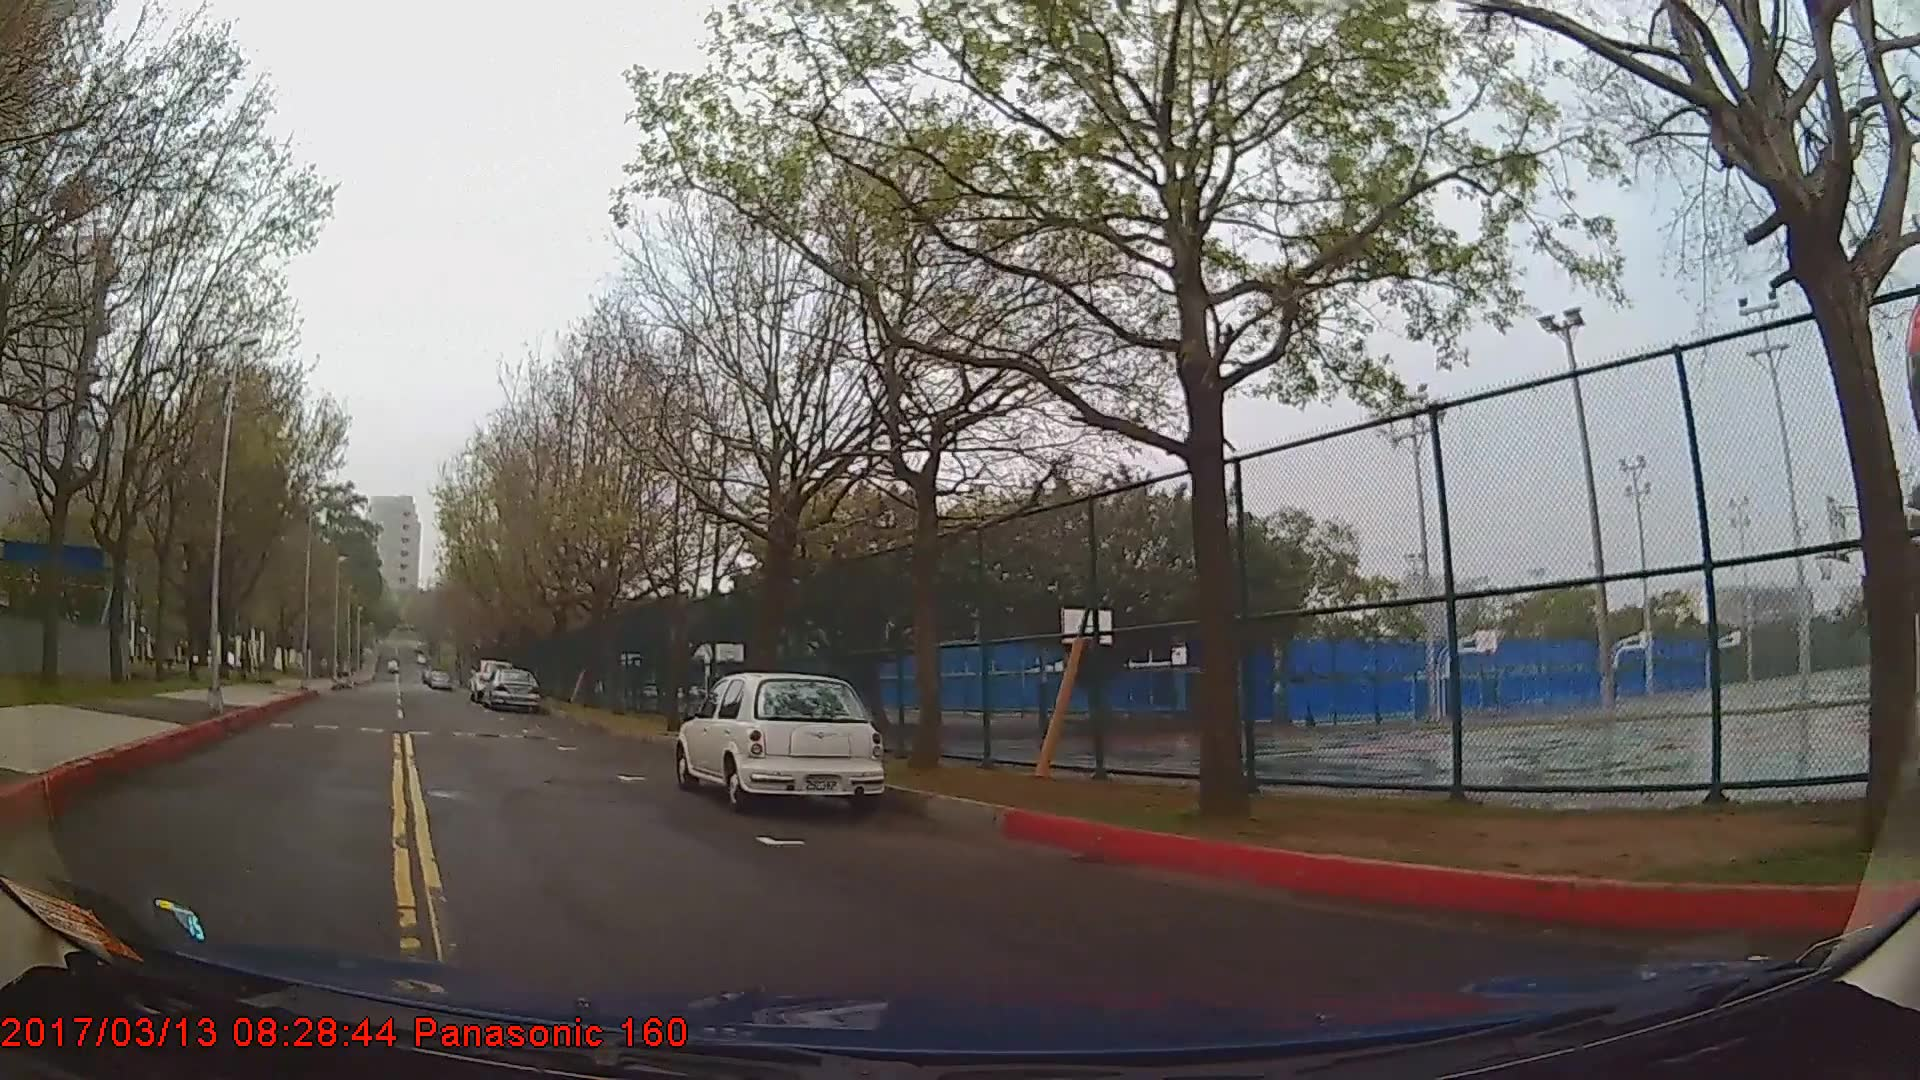vehicle: (673, 669, 884, 808), (479, 665, 539, 708)
